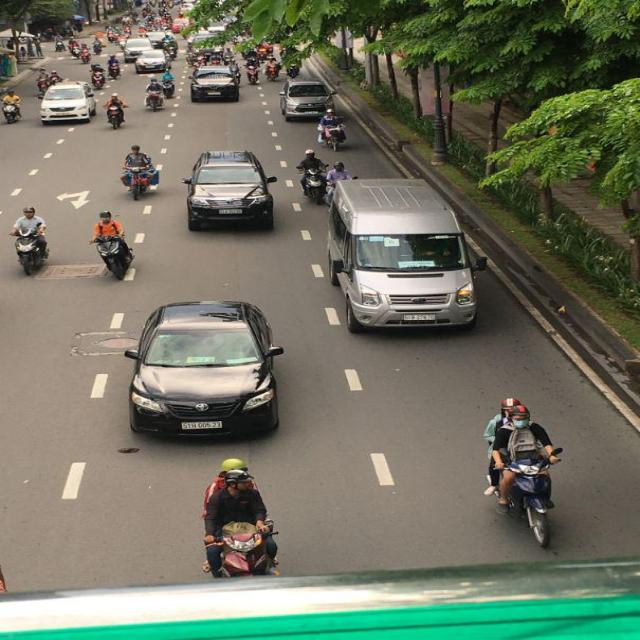car: (328, 175, 480, 332), (128, 299, 286, 440), (182, 149, 276, 232), (278, 80, 332, 122), (42, 84, 96, 124), (190, 66, 242, 105), (136, 51, 172, 75), (122, 38, 154, 61)
motorcycle: (497, 448, 562, 550), (93, 234, 139, 280), (122, 151, 159, 197), (14, 231, 48, 276), (319, 115, 347, 149), (300, 171, 327, 204), (108, 102, 128, 130), (146, 86, 165, 110), (4, 104, 23, 125)
